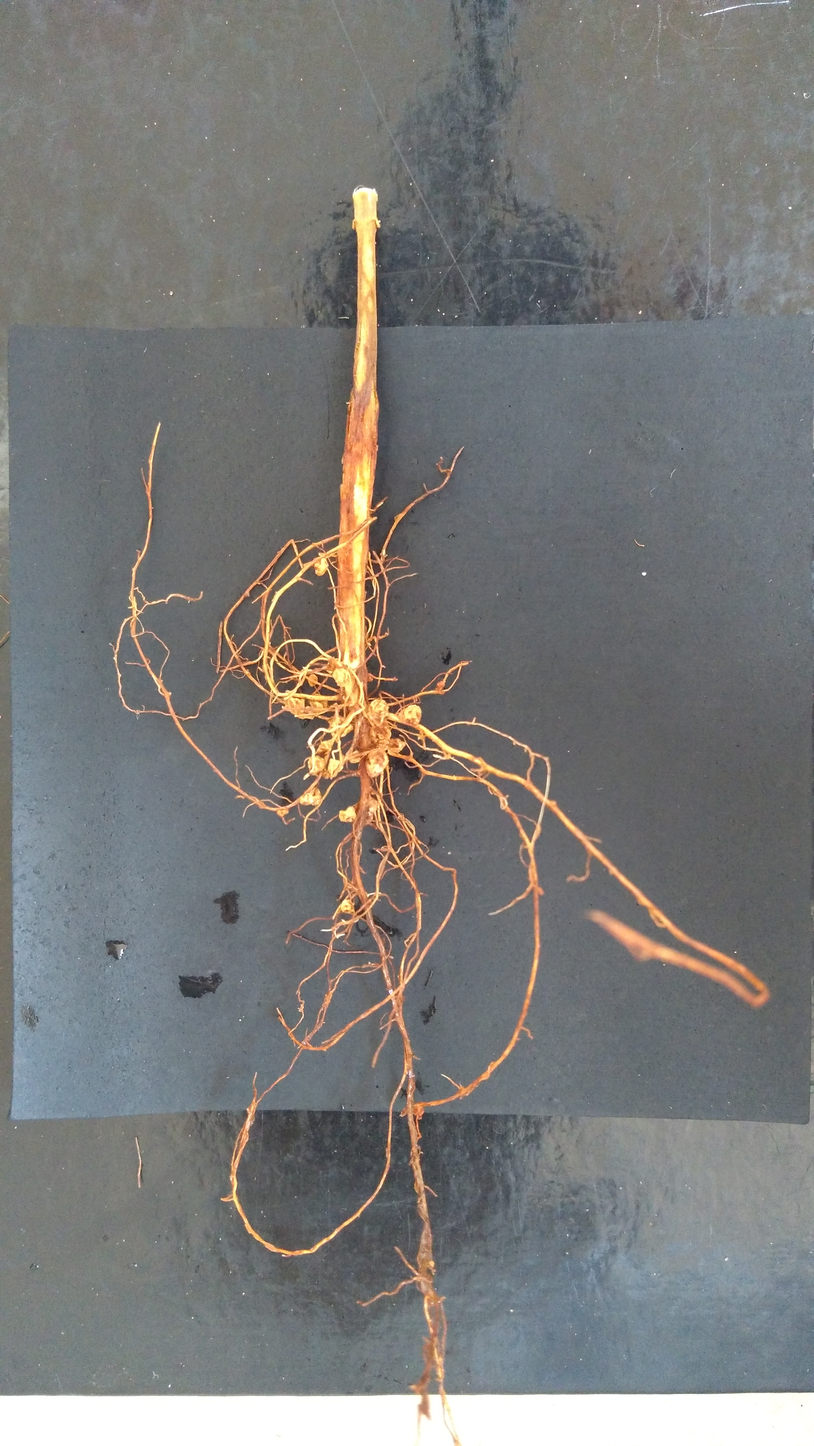nodule: (326, 712, 356, 740), (365, 747, 390, 780), (397, 701, 425, 729), (367, 695, 390, 727), (331, 668, 353, 691), (299, 786, 322, 807), (336, 804, 359, 824), (283, 695, 306, 715), (306, 754, 326, 775), (370, 725, 392, 743), (313, 557, 330, 578), (314, 739, 332, 756), (327, 757, 341, 777), (307, 672, 321, 689), (348, 749, 362, 766), (389, 738, 405, 752), (341, 898, 355, 913), (308, 699, 324, 711), (276, 807, 293, 818), (413, 1104, 425, 1118)
